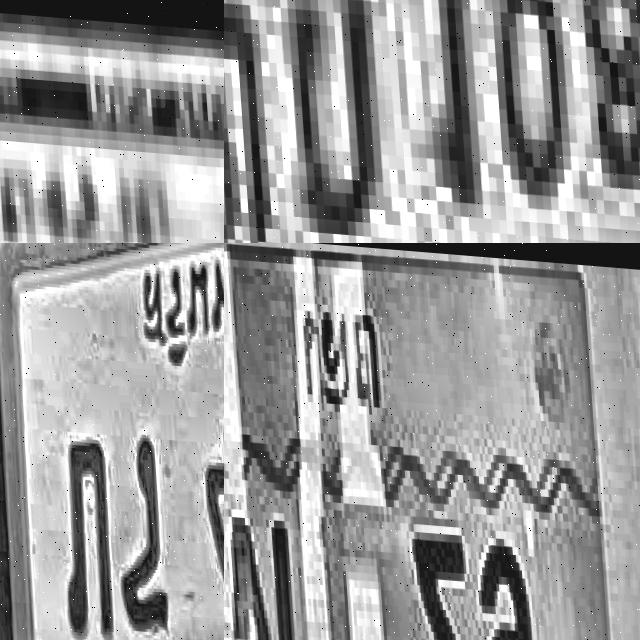license-plate: (224, 243, 640, 640), (224, 0, 640, 243), (0, 243, 224, 640), (0, 0, 224, 243)
